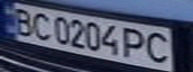0: (48, 13, 72, 46), (81, 19, 103, 53)
2: (66, 16, 87, 50)
4: (100, 22, 124, 56)
B: (6, 4, 39, 36)
C: (142, 29, 175, 64), (27, 10, 54, 40)
P: (121, 26, 151, 61)
